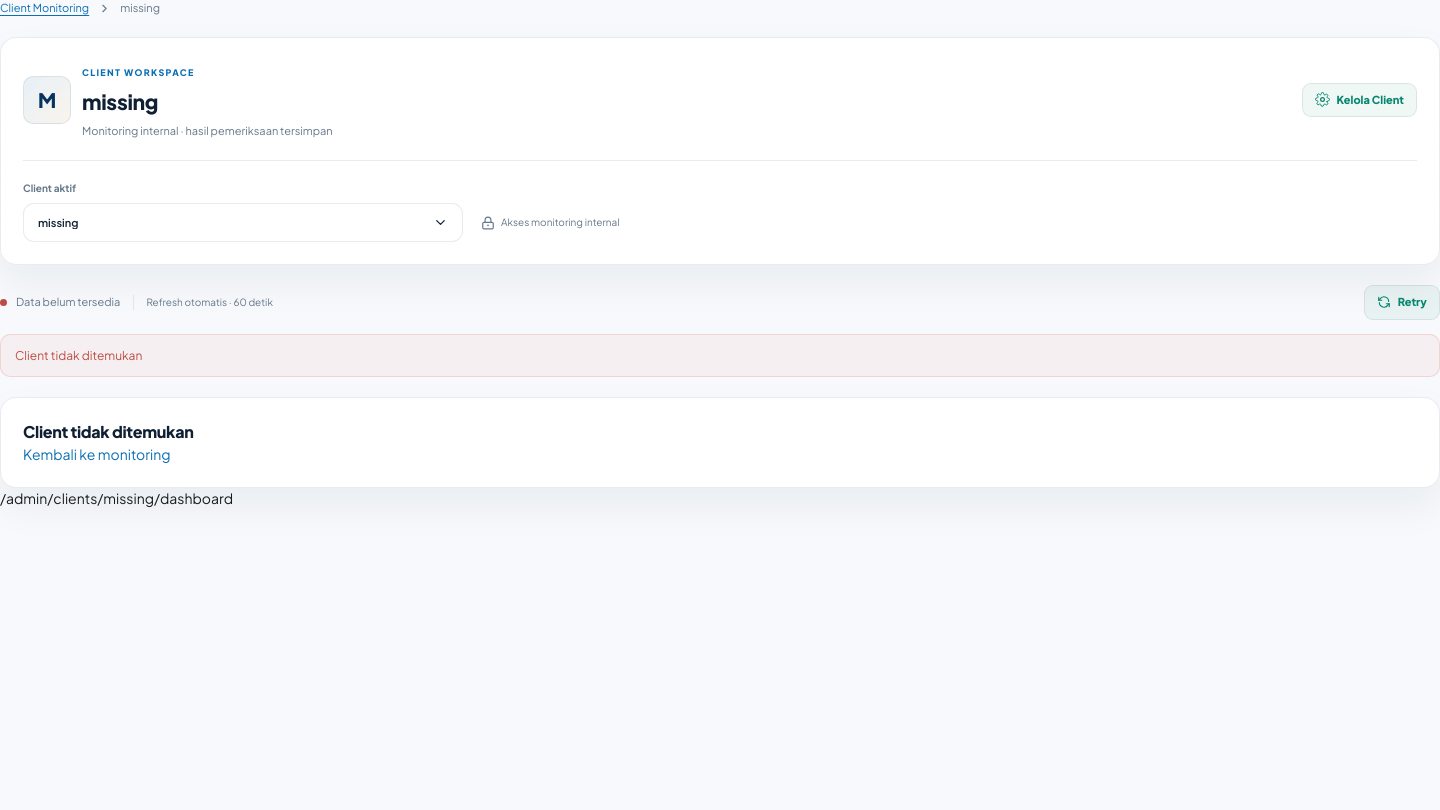
Test: initial load failure can be retried and missing client has a return link
Expected: the heading "Client tidak ditemukan" is shown, [23, 421, 194, 442]
Click the button "Retry" at (1402, 302), box [1364, 285, 1439, 320]
(page scrolled)
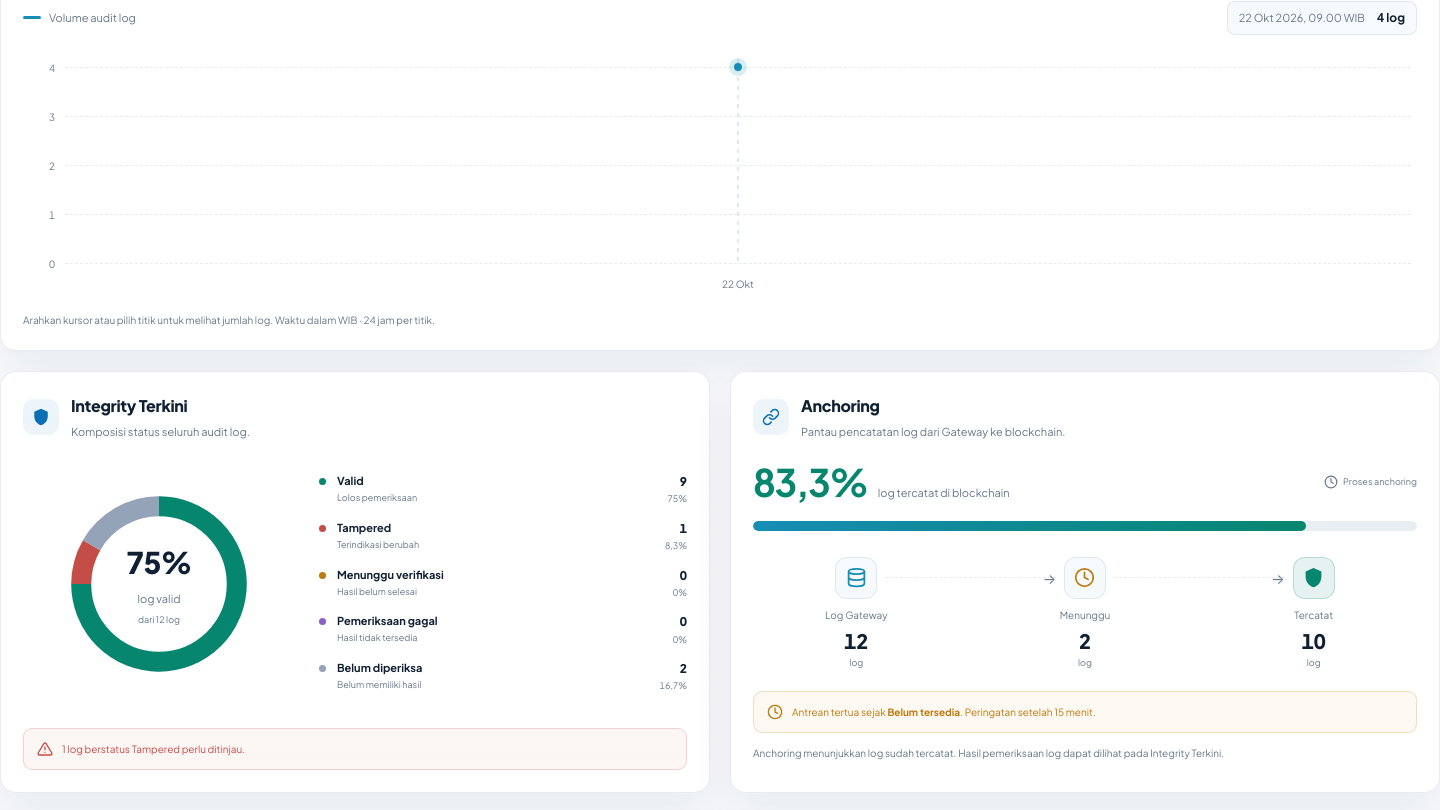
Expected: the heading "Integrity Terkini" is shown, [71, 395, 188, 416]
